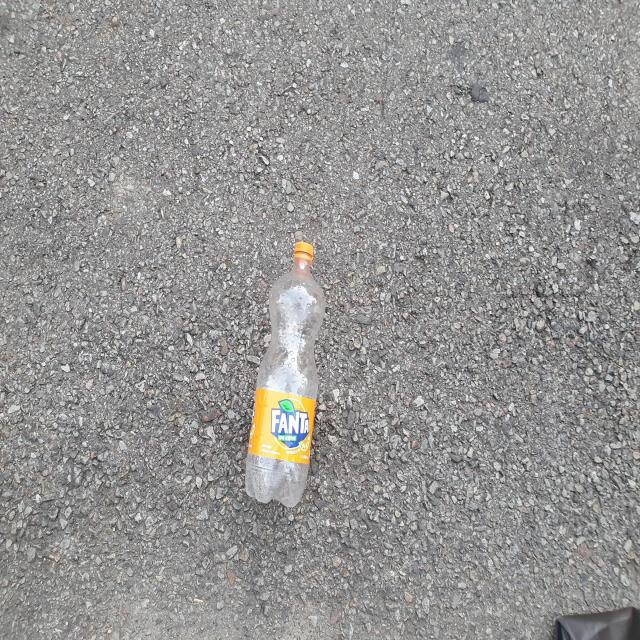plastic: (245, 241, 326, 508)
